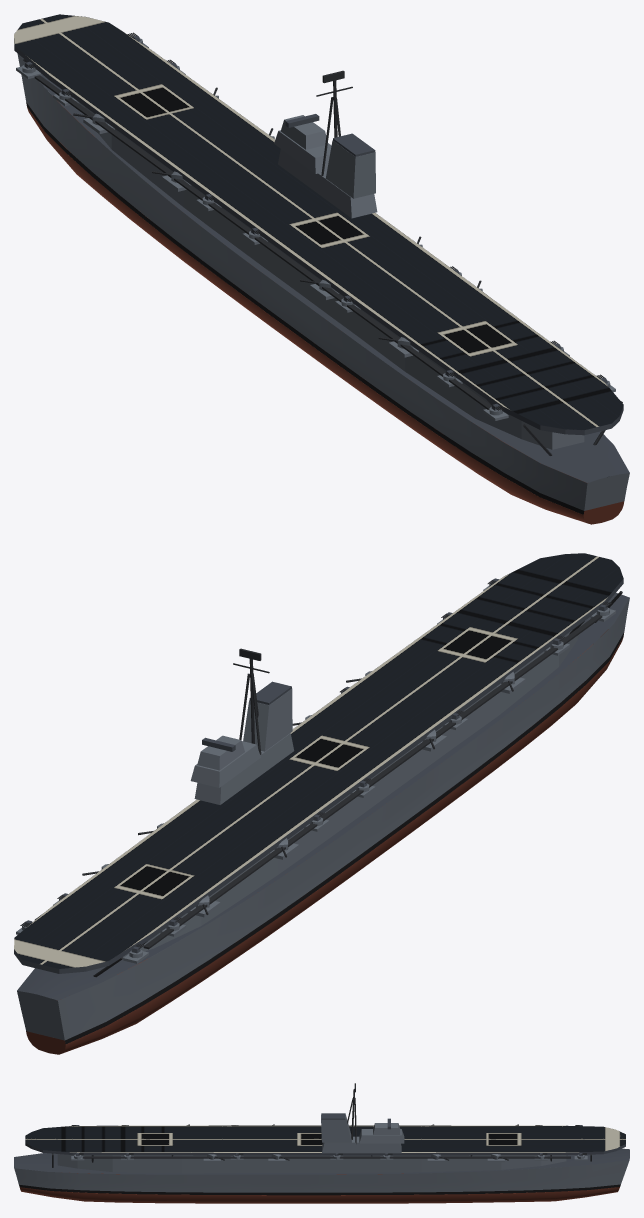
File: carrier_usn.glb
3 views of the same model, one above another, from view 1: azimuth 30°, elevation 25°; view 2: azimuth 150°, elevation 25°; view 3: azimuth 270°, elevation 25° (orthographic). The views are drawn at different scales.
Parts seen in each view (by area): view 1: carrier_usn; view 2: carrier_usn; view 3: carrier_usn.
Part boxes in pixels (<box>): carrier_usn: <box>14,14,629,524</box>; carrier_usn: <box>14,553,629,1054</box>; carrier_usn: <box>14,1083,629,1203</box>.
Size of the model in its own units: 33.81 by 54.1 by 247.
6 materials, 1 textured.
